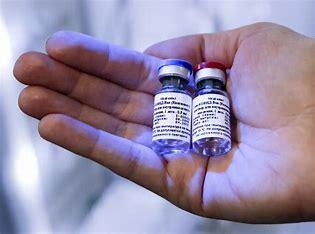Syringe: (192, 54, 234, 159), (148, 57, 190, 160)
